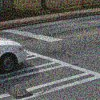crosswalk: (0, 57, 98, 99)
